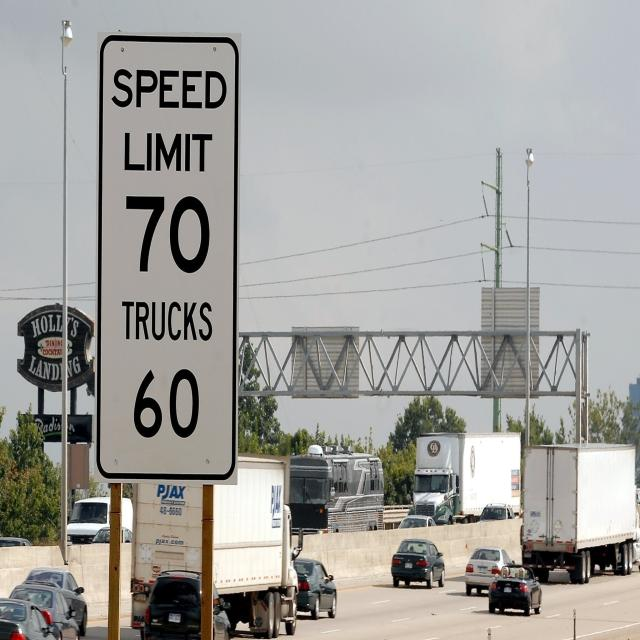speedLimit70: (95, 23, 242, 484)
